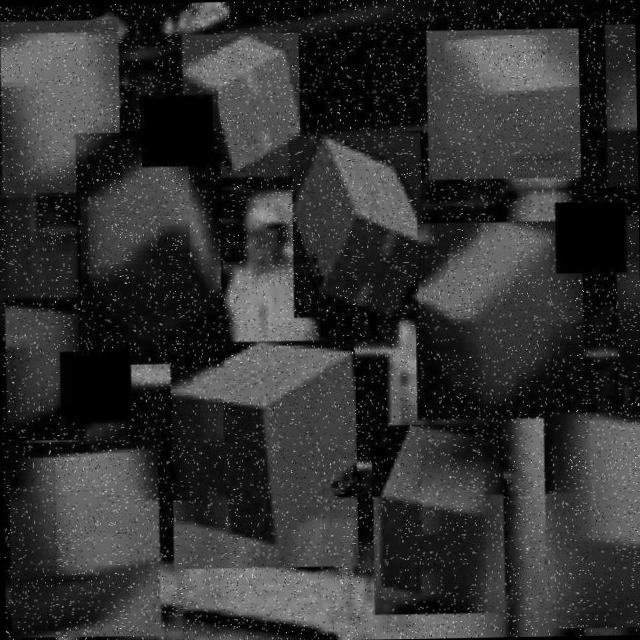box: (165, 338, 362, 572), (410, 218, 587, 424), (75, 130, 224, 370), (3, 437, 164, 640), (369, 421, 506, 618), (288, 130, 425, 320), (422, 25, 584, 184), (541, 408, 640, 633), (0, 16, 121, 197), (178, 31, 303, 180), (2, 297, 86, 444), (603, 22, 638, 190), (613, 213, 640, 388)
